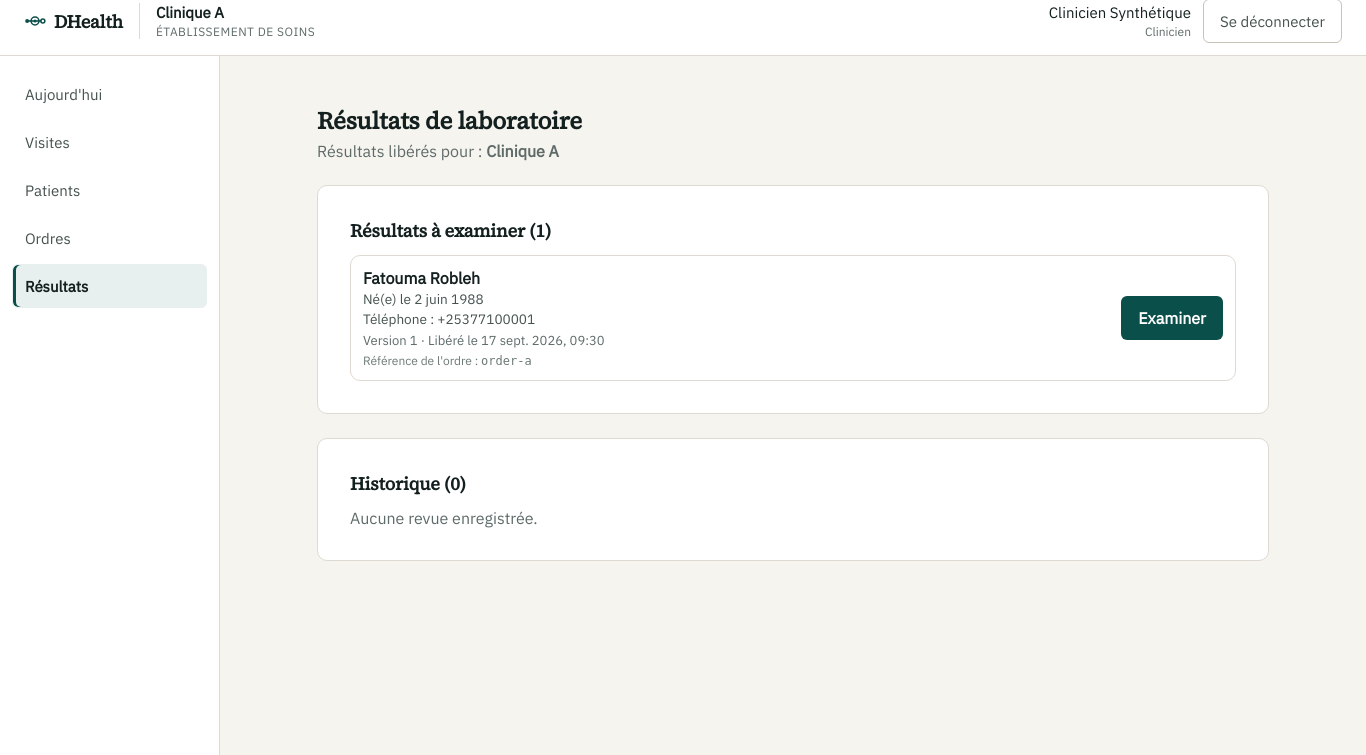
Scenario: ClinicResultsPage › UI-V1: opening a pending version loads its exact content via getReleaseVersion, not the legacy read
Click the button "Examiner".
click(1172, 318)  # box [1121,296,1223,340]
(page scrolled)
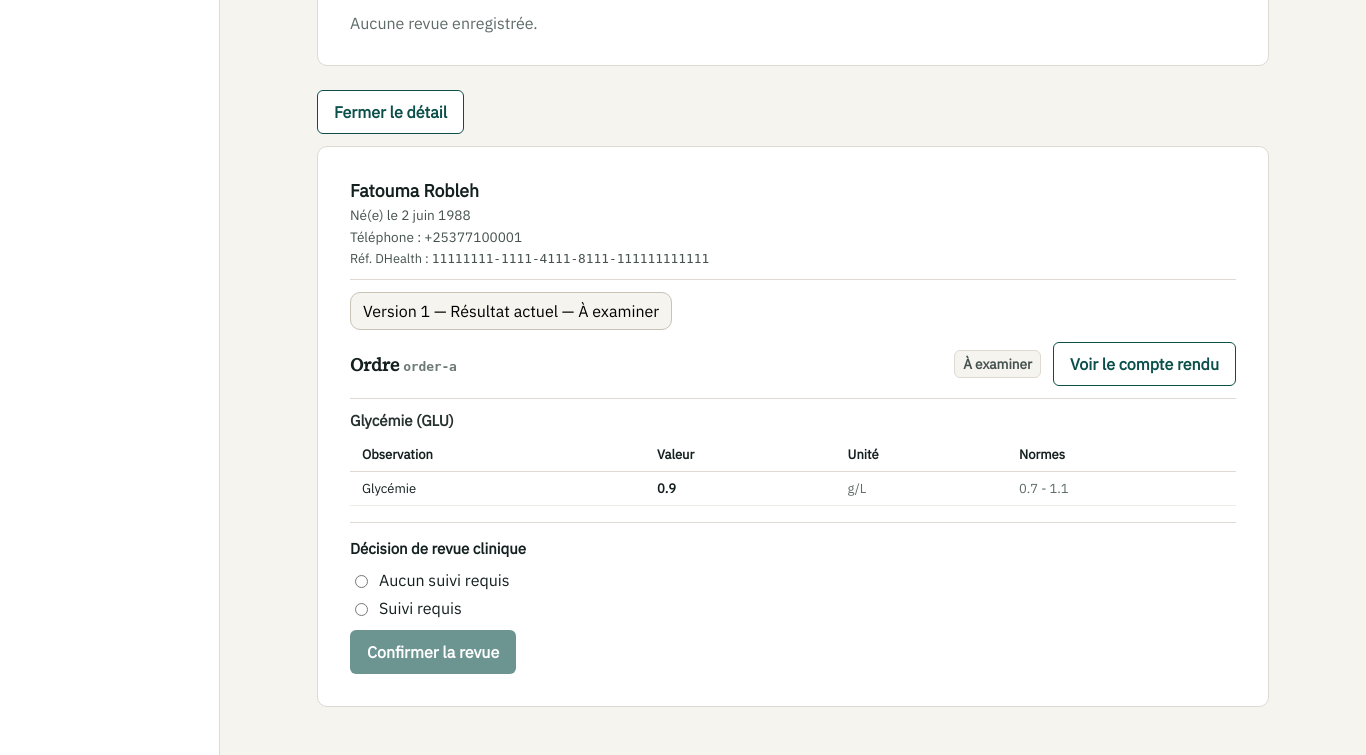
Check: the text "0.9" is shown, box [645,472,836,506]
